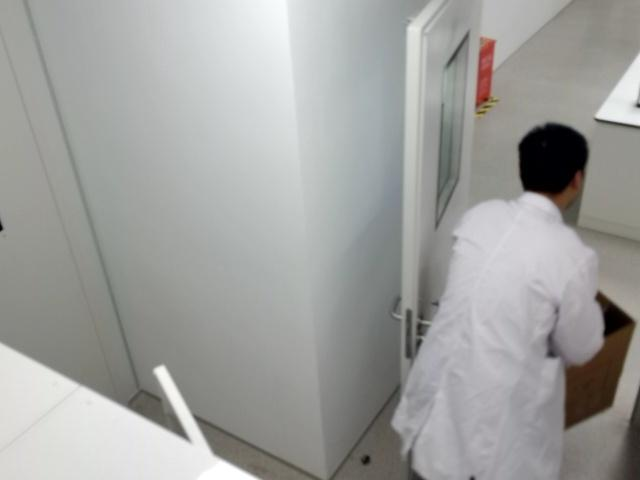Lab_coat: (392, 123, 604, 479)
